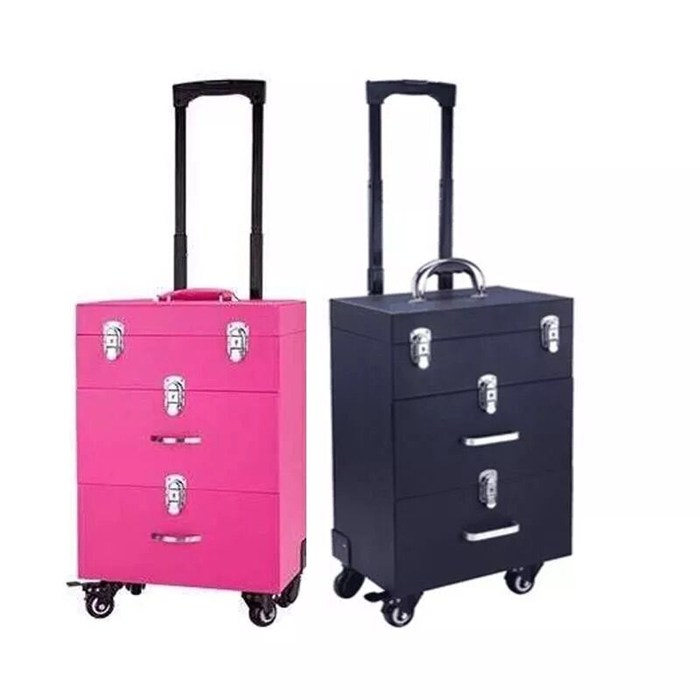luggage: (67, 77, 308, 627), (333, 77, 574, 627)
